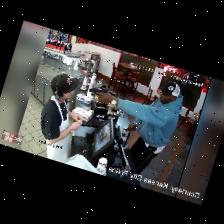person: (96, 81, 182, 174), (40, 73, 81, 161)
